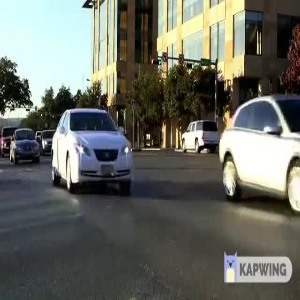car: (215, 93, 300, 214), (49, 100, 143, 194), (6, 125, 41, 165)
suv: (175, 117, 222, 153)
